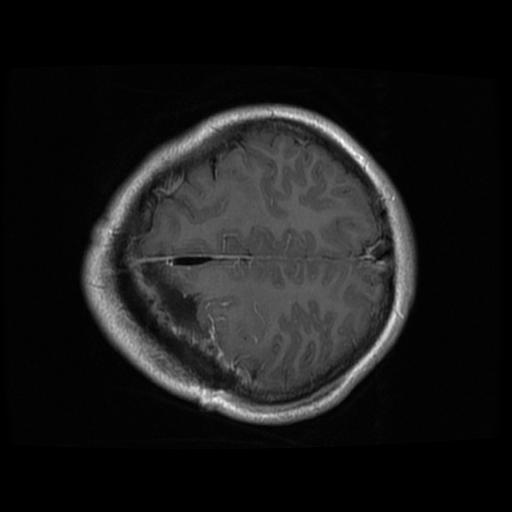glioma: (143, 262, 203, 335)
